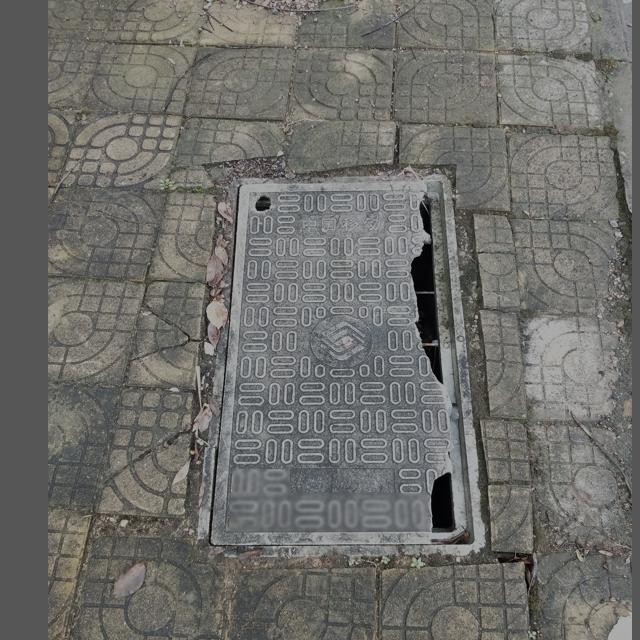broke: (209, 175, 488, 561)
